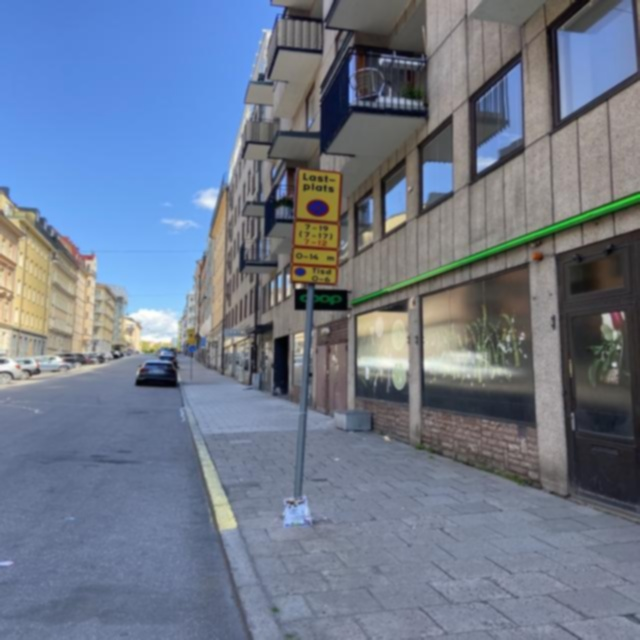lastplats: (297, 168, 341, 223)
